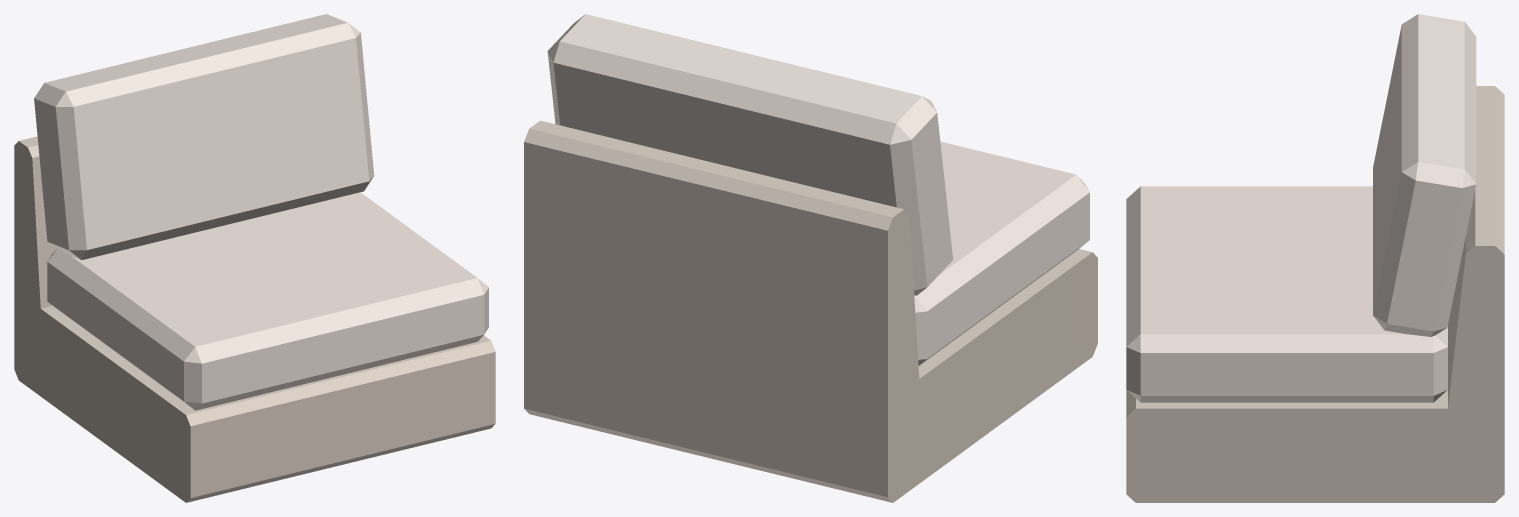
The model's file is Prop_Living_Room_Modular_Couch_Center.fbx.
3 renders of one model, left to right at view 1: azimuth 30°, elevation 25°; view 2: azimuth 150°, elevation 25°; view 3: azimuth 270°, elevation 25°, orthographic. The views are drawn at different scales.
Parts seen in each view (by area): view 1: object1.031, object3.014, object2.018; view 2: object2.018, object3.014, object1.031; view 3: object1.031, object2.018, object3.014.
Boxes of the visible parts, x1,y1,x2,y2 form: object1.031: (47,192,488,410); object3.014: (34,14,374,260); object2.018: (14,136,495,502); object2.018: (524,120,1097,502); object3.014: (547,14,953,295); object1.031: (914,141,1089,365); object1.031: (1126,186,1447,402); object2.018: (1126,86,1504,502); object3.014: (1373,14,1476,336).
Size of the model in its own units: 100 by 97.77 by 100.
